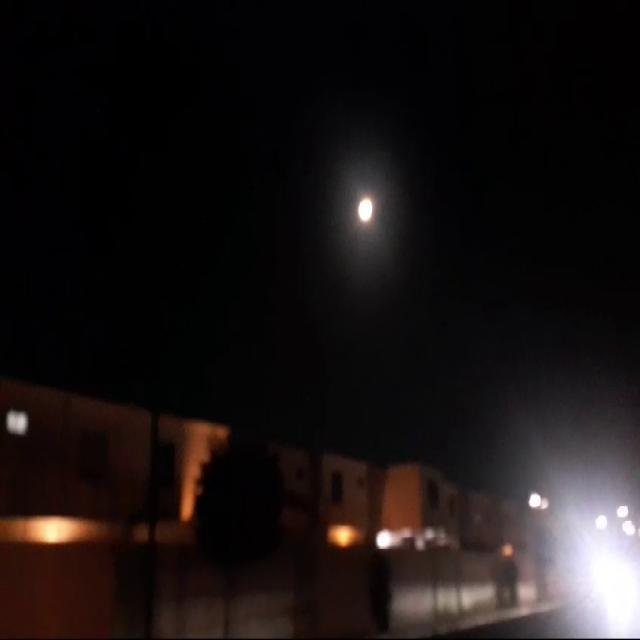moon: (358, 192, 377, 226)
